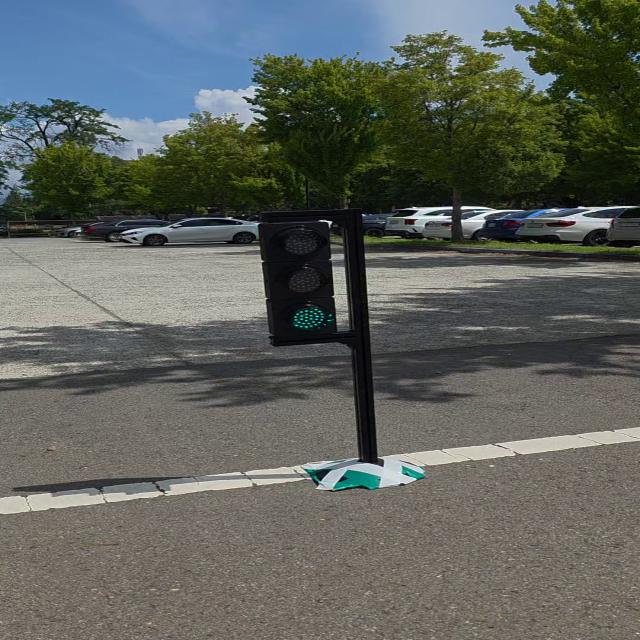green: (259, 216, 342, 342)
